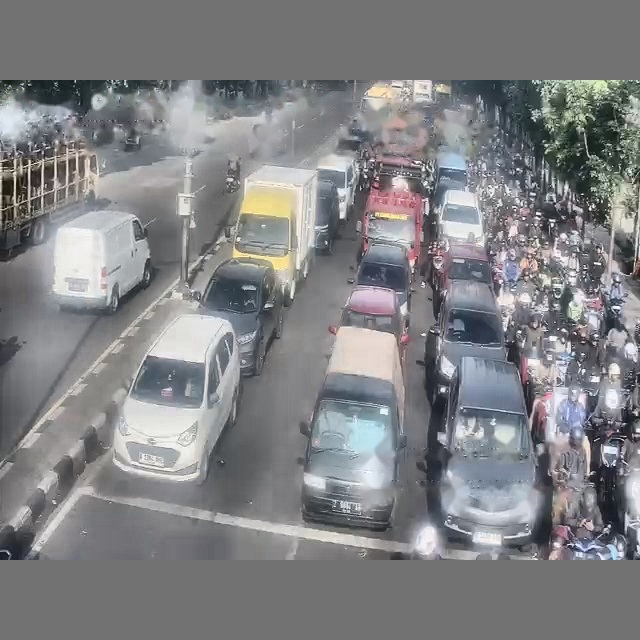Mobil: (112, 314, 240, 483), (438, 356, 541, 549), (195, 258, 284, 375), (424, 281, 506, 406), (348, 244, 412, 323), (339, 286, 408, 355), (433, 243, 492, 317), (315, 180, 339, 254)
Motor: (549, 525, 625, 559)
Truk: (227, 165, 317, 305), (0, 140, 98, 252)
